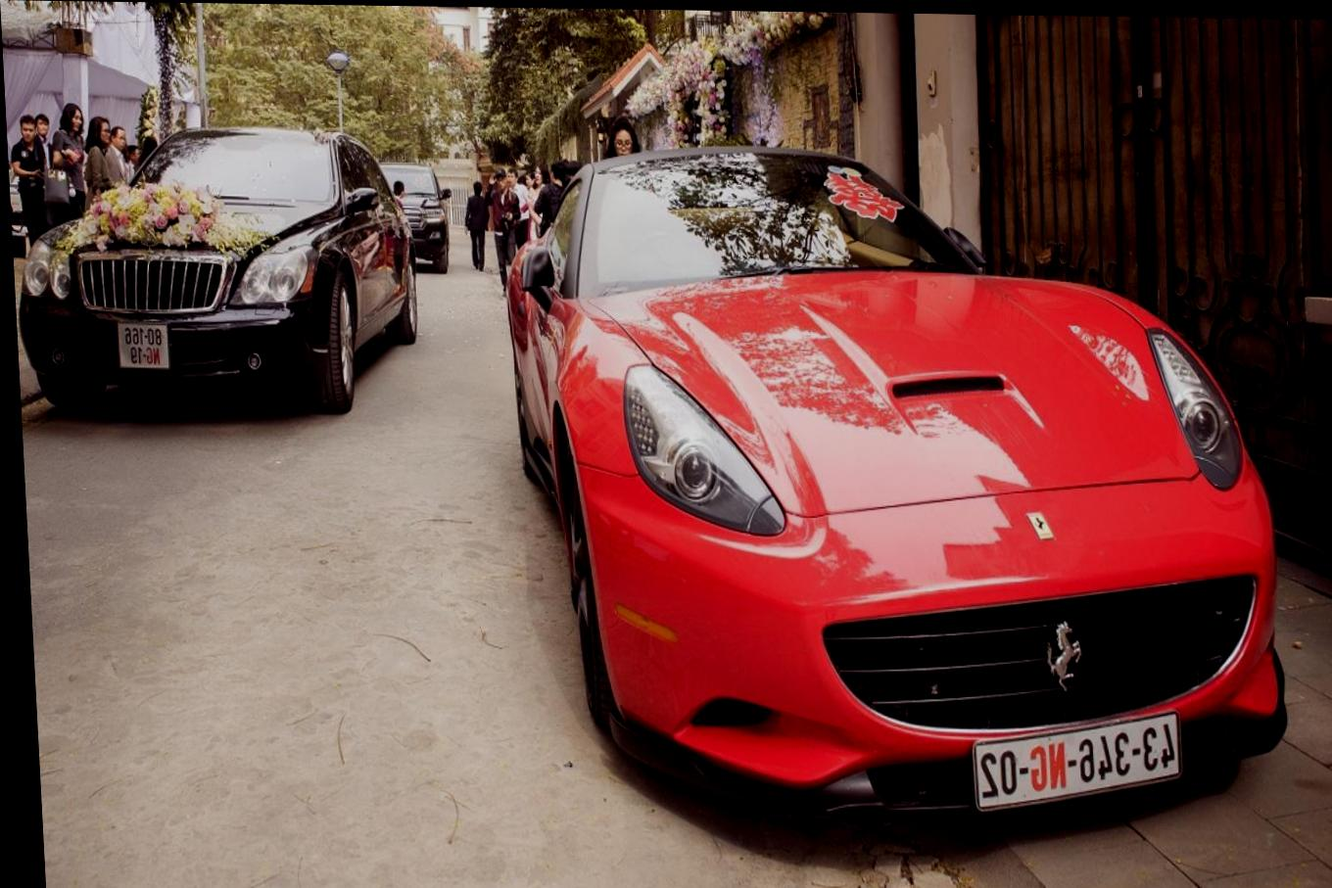License_Plate: (963, 706, 1185, 812), (107, 319, 177, 373)
